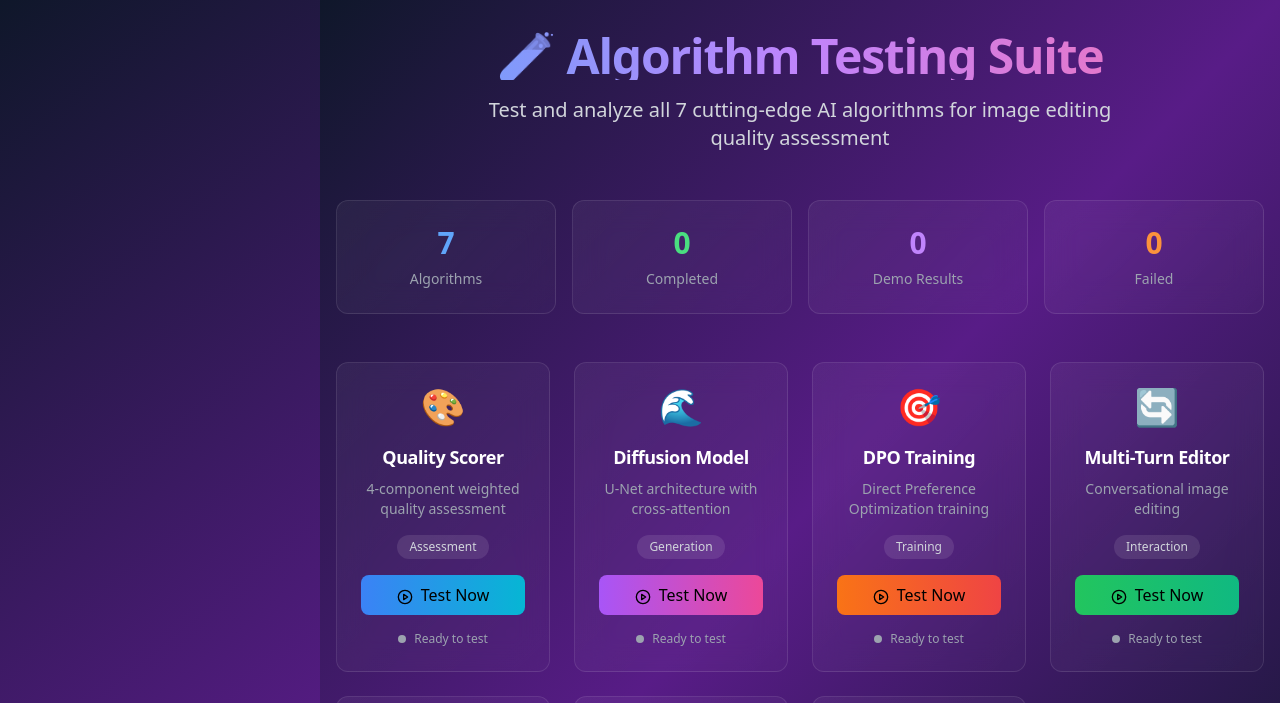
it: rejects unsuccessful or malformed API results: null
Step 1. Click the button "Test Now" below "4-component weighted quality assessment" → (443, 595), box [361,575,525,615]
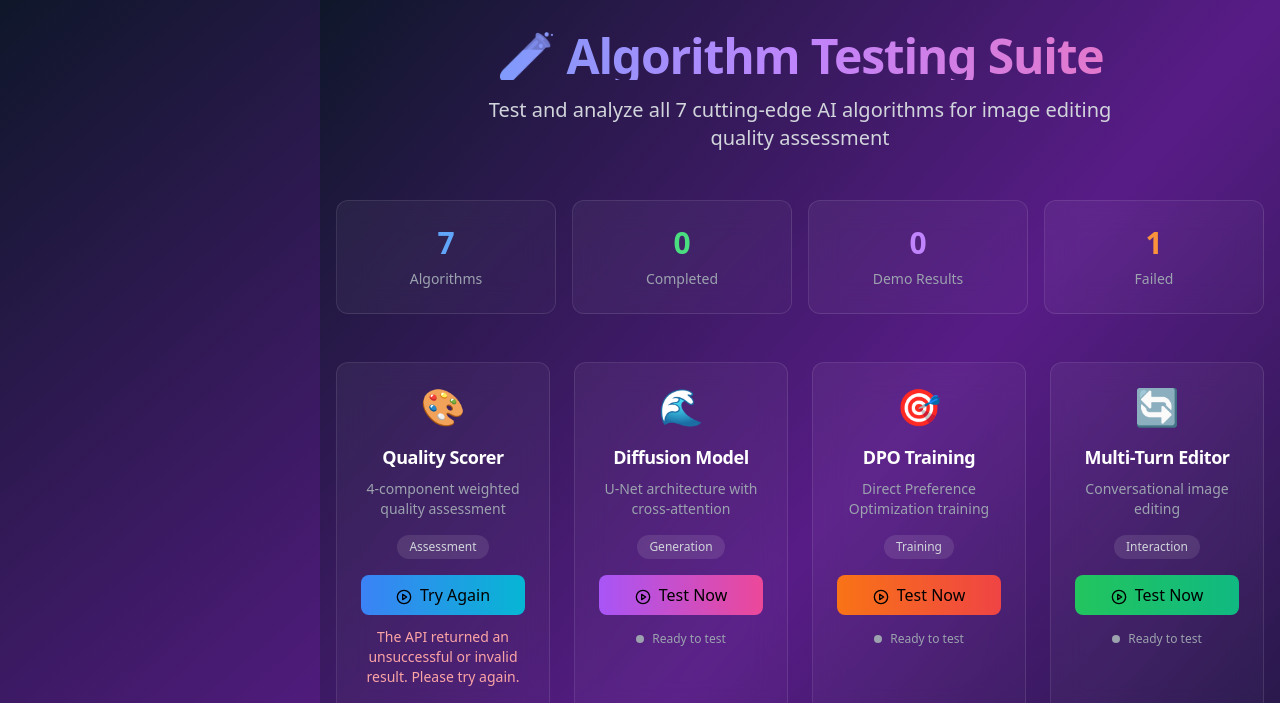
Expected: the message shows "unsuccessful or invalid result", [367,627,519,686]
Expected: the text "1" is shown, [1145,222,1163,263]
